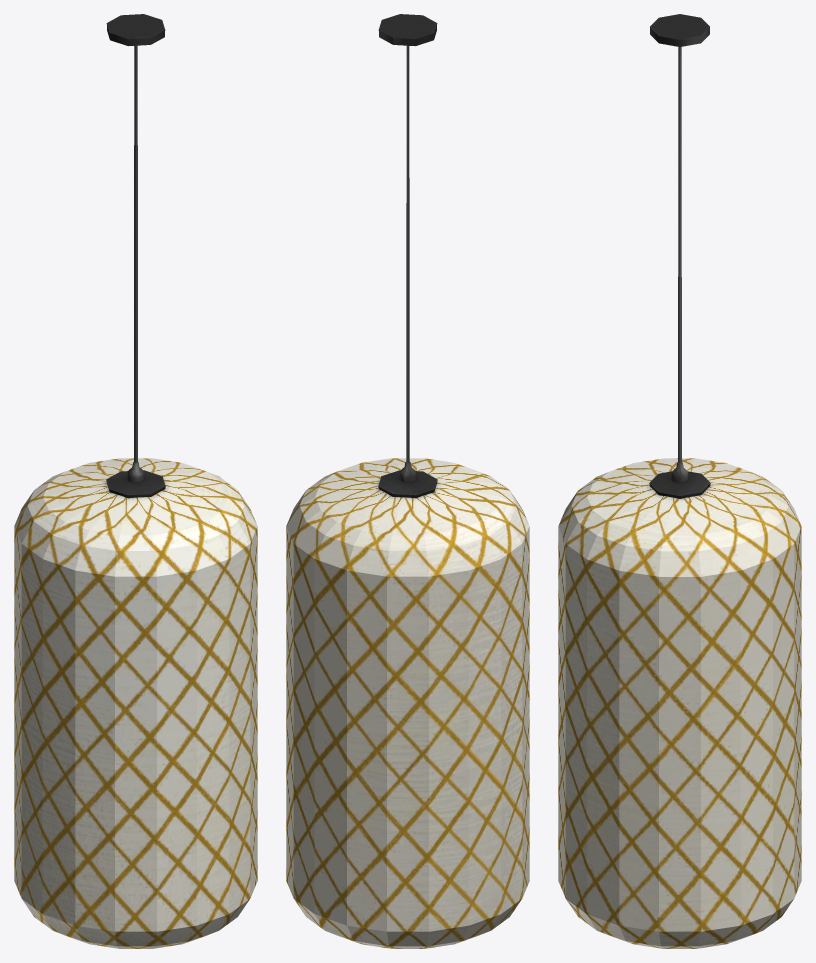
The model's file is Lamp1.a.fbx.
3 views of the same model, side by side, from view 1: azimuth 30°, elevation 25°; view 2: azimuth 150°, elevation 25°; view 3: azimuth 270°, elevation 25° (orthographic).
Visible parts, largest first — view 1: Group 0; view 2: Group 0; view 3: Group 0.
Boxes of the visible parts, left/top/right/bottom form: Group 0: left=14, top=14, right=257, bottom=948; Group 0: left=286, top=14, right=529, bottom=948; Group 0: left=558, top=14, right=801, bottom=948.
Size of the model in its own units: 35.89 by 148 by 36.45.
Materials: 2 (2 with a texture image).
